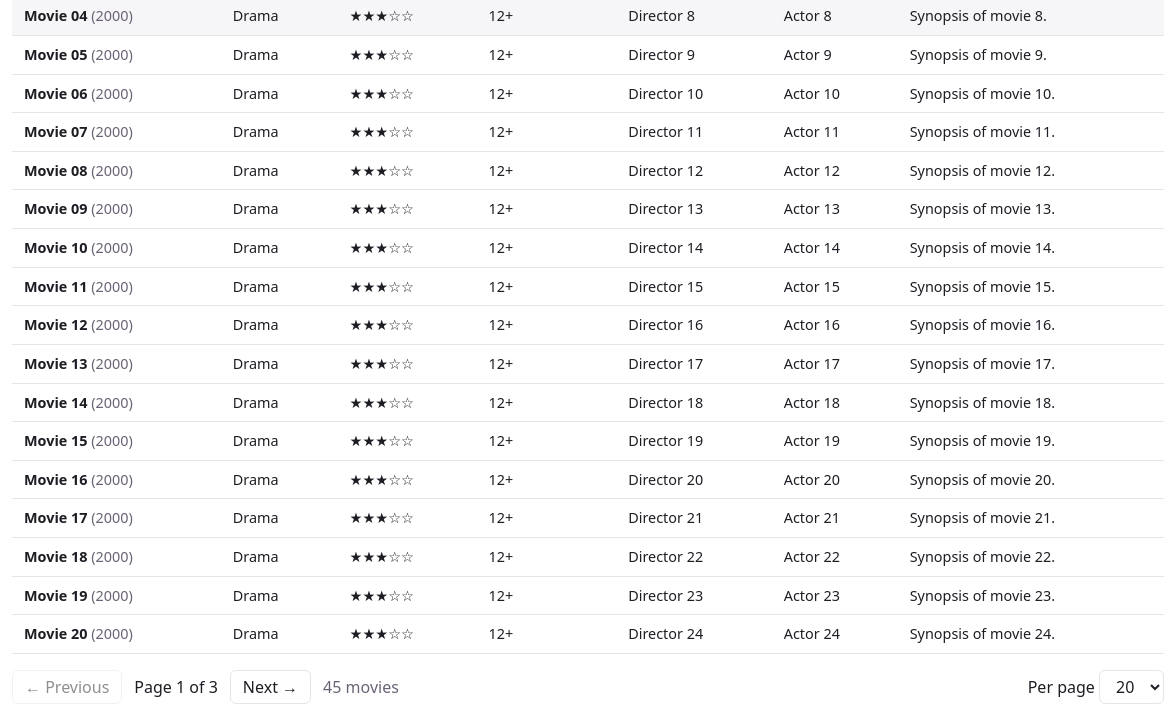
Scenario: MovieList search › starts a new search from the first page
The image size is (1176, 720).
(page scrolled)
Click the button "Next →". click: (270, 687)
box: [230,670,311,704]
(page scrolled)
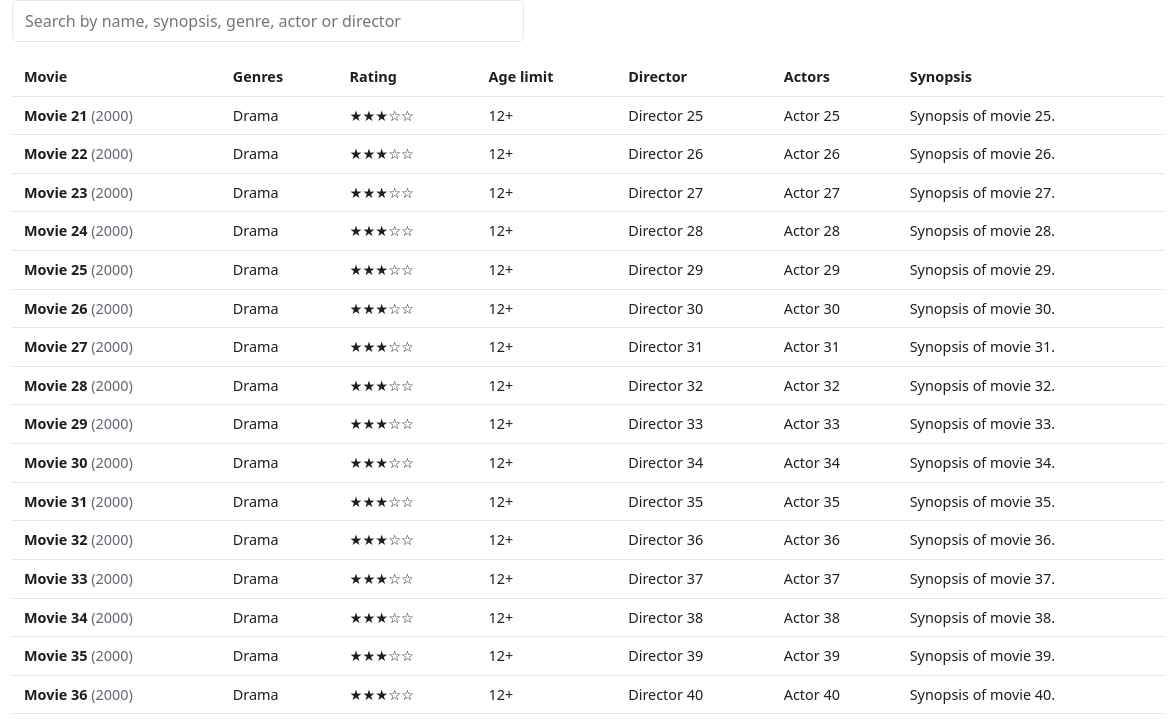
Type "movie" into the search field named "Search movies". click: (268, 21)
box: [12,0,524,42]
(page scrolled)
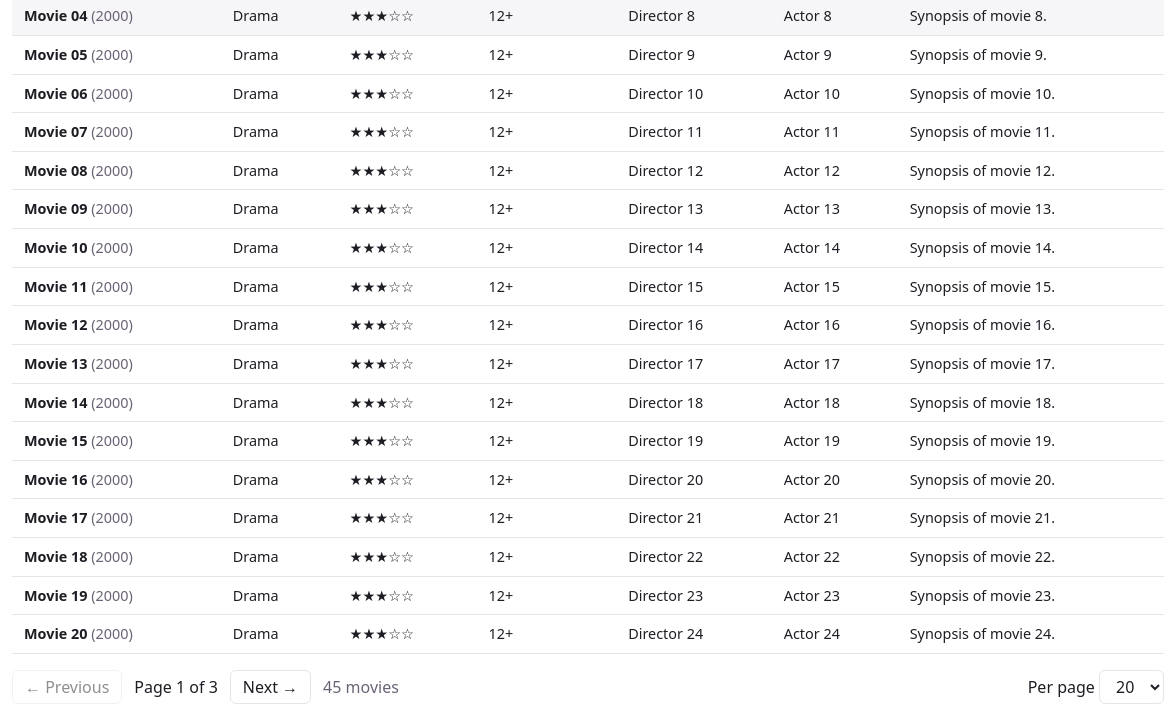
Now the text "Page 1 of 3" is shown, box [134,675,218,699]
